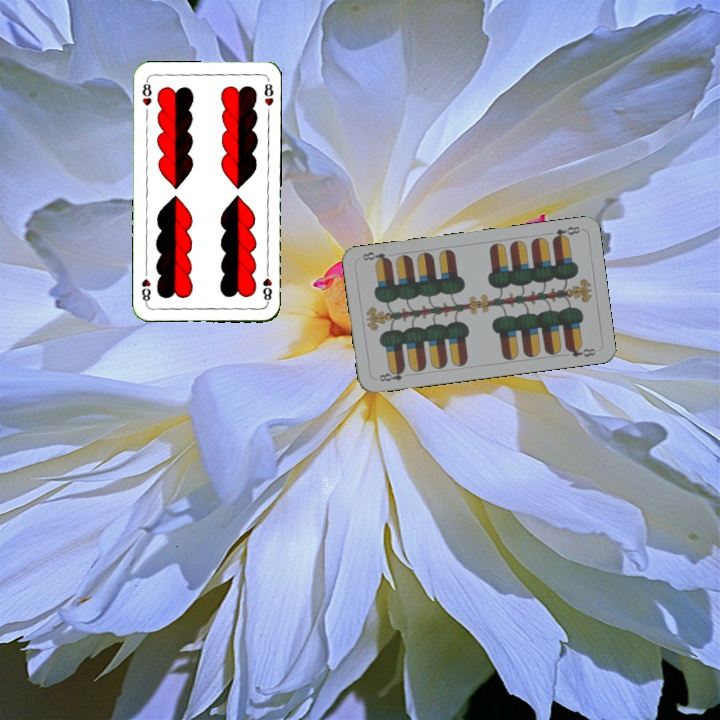E8: (548, 222, 583, 243), (372, 365, 407, 384)
H8: (259, 265, 275, 306), (138, 76, 154, 108)
